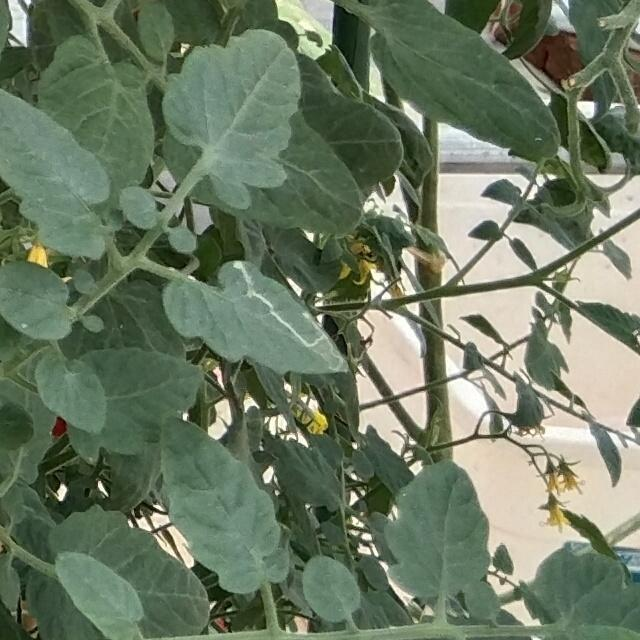Healthy: (365, 0, 565, 164), (159, 26, 304, 214), (150, 407, 293, 594), (0, 84, 110, 267), (384, 459, 496, 606), (50, 547, 148, 640), (34, 354, 112, 438), (0, 259, 74, 344), (305, 550, 365, 625)
Leaf_Miner: (163, 252, 358, 380)
